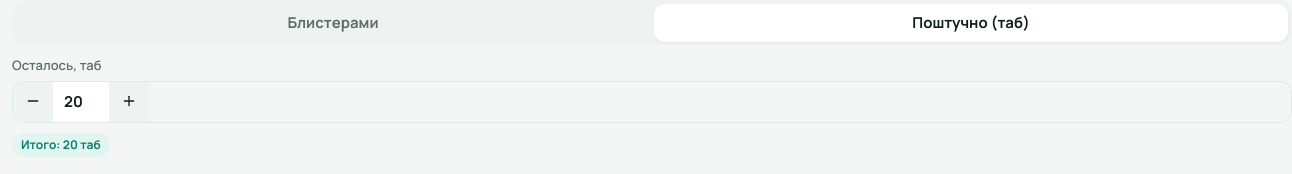
Test: QuantityInput › поле можно стереть и ввести новое число (ноль не «залипает»)
Clear the number field named "Осталось, таб" at (81, 102), box [53,82,109,122]
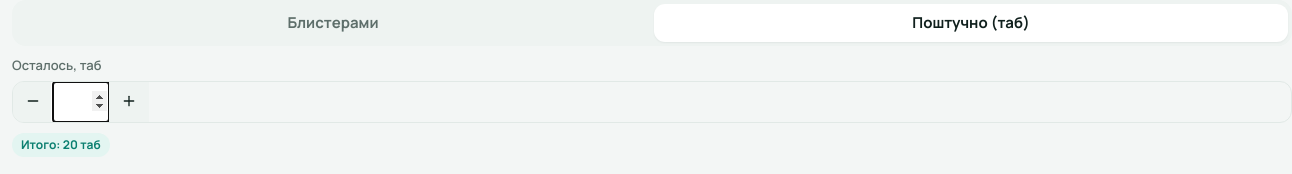
Type "7" into the number field named "Осталось, таб" at (81, 102), box [53,82,109,122]
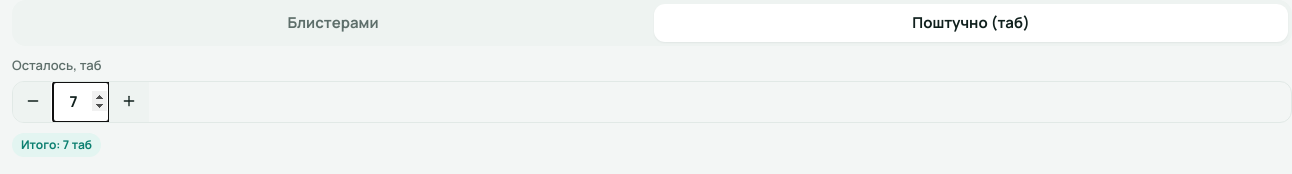
Check: the text "Итого: 7 таб" is shown, box [12,133,101,157]
